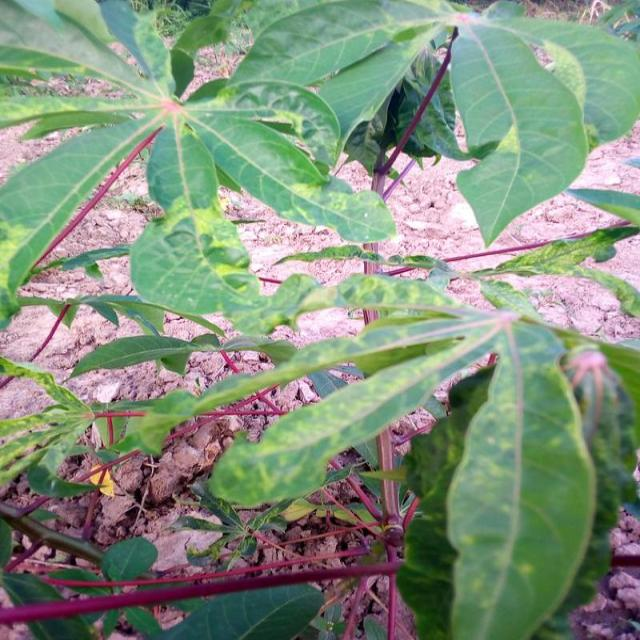cassava leaf: (0, 1, 638, 637), (448, 15, 590, 247)
